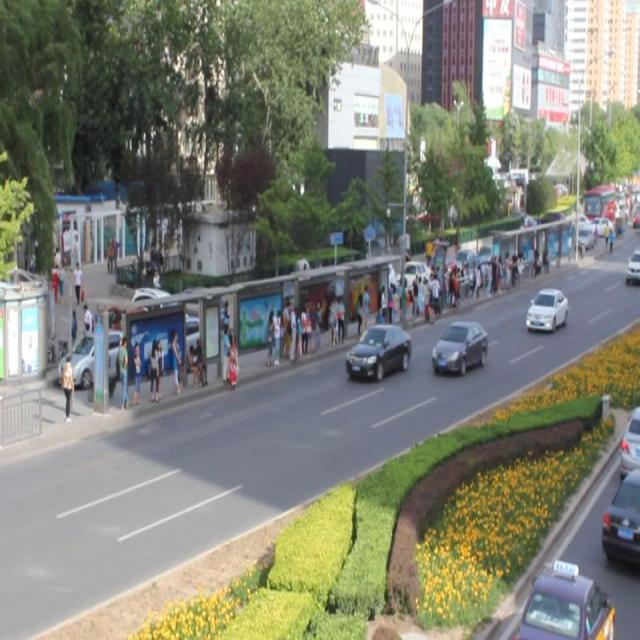car: (345, 323, 410, 380), (431, 322, 485, 374), (525, 289, 565, 332)
